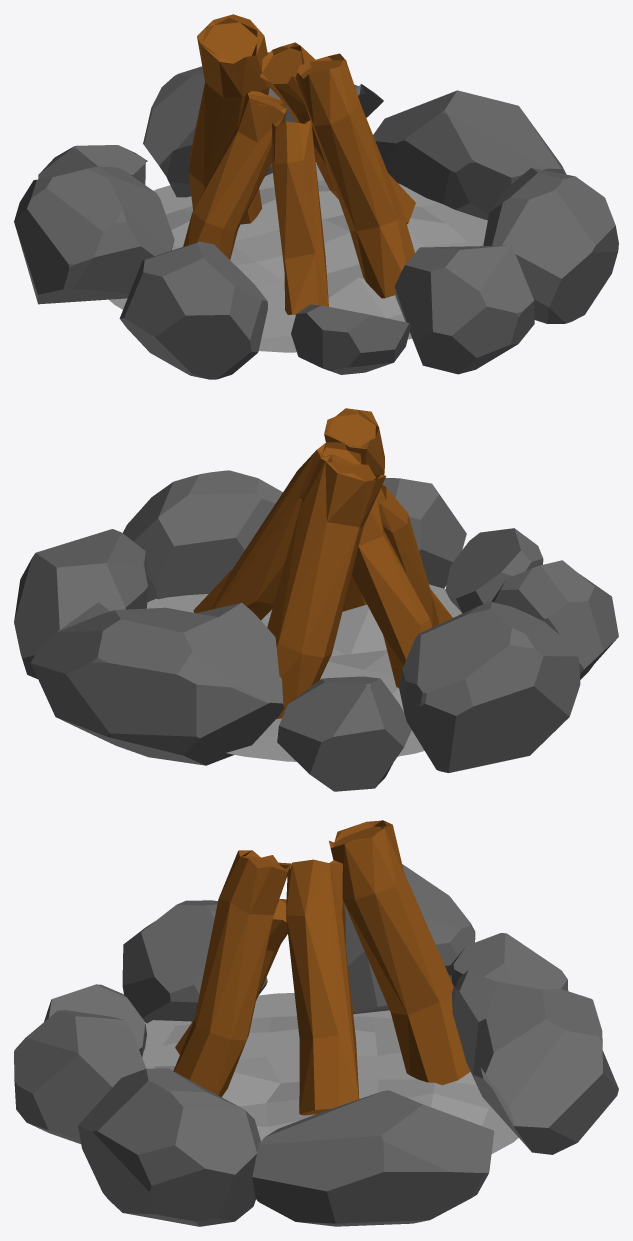
File: CampFire.fbx
3 views of the same model, one above another, from view 1: azimuth 30°, elevation 25°; view 2: azimuth 150°, elevation 25°; view 3: azimuth 270°, elevation 25° (orthographic). The views are drawn at different scales.
Parts seen in each view (by area): view 1: Sphere.006, Cylinder, Plane; view 2: Sphere.006, Cylinder, Plane; view 3: Sphere.006, Cylinder, Plane.
Part boxes in pixels (x1,y1,x2,y2): Sphere.006: (14, 52, 618, 379); Cylinder: (183, 14, 415, 314); Plane: (109, 164, 487, 352); Sphere.006: (14, 470, 618, 791); Cylinder: (193, 408, 452, 719); Plane: (147, 584, 461, 761); Sphere.006: (14, 864, 618, 1226); Cylinder: (173, 820, 470, 1115); Plane: (142, 993, 518, 1153).
Bounding box in the file's own units: 1118 × 549 × 1094.
